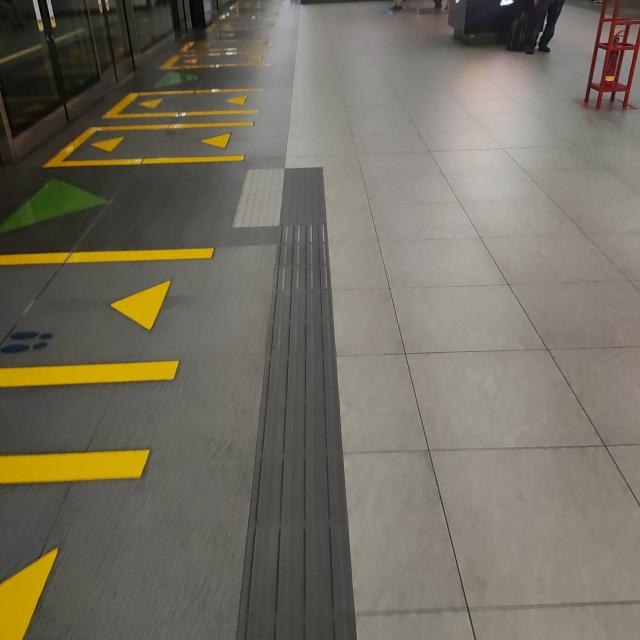lurus: (245, 164, 359, 640)
